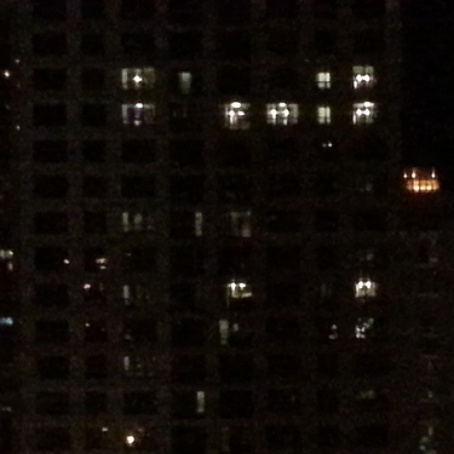building: (1, 1, 442, 444)
